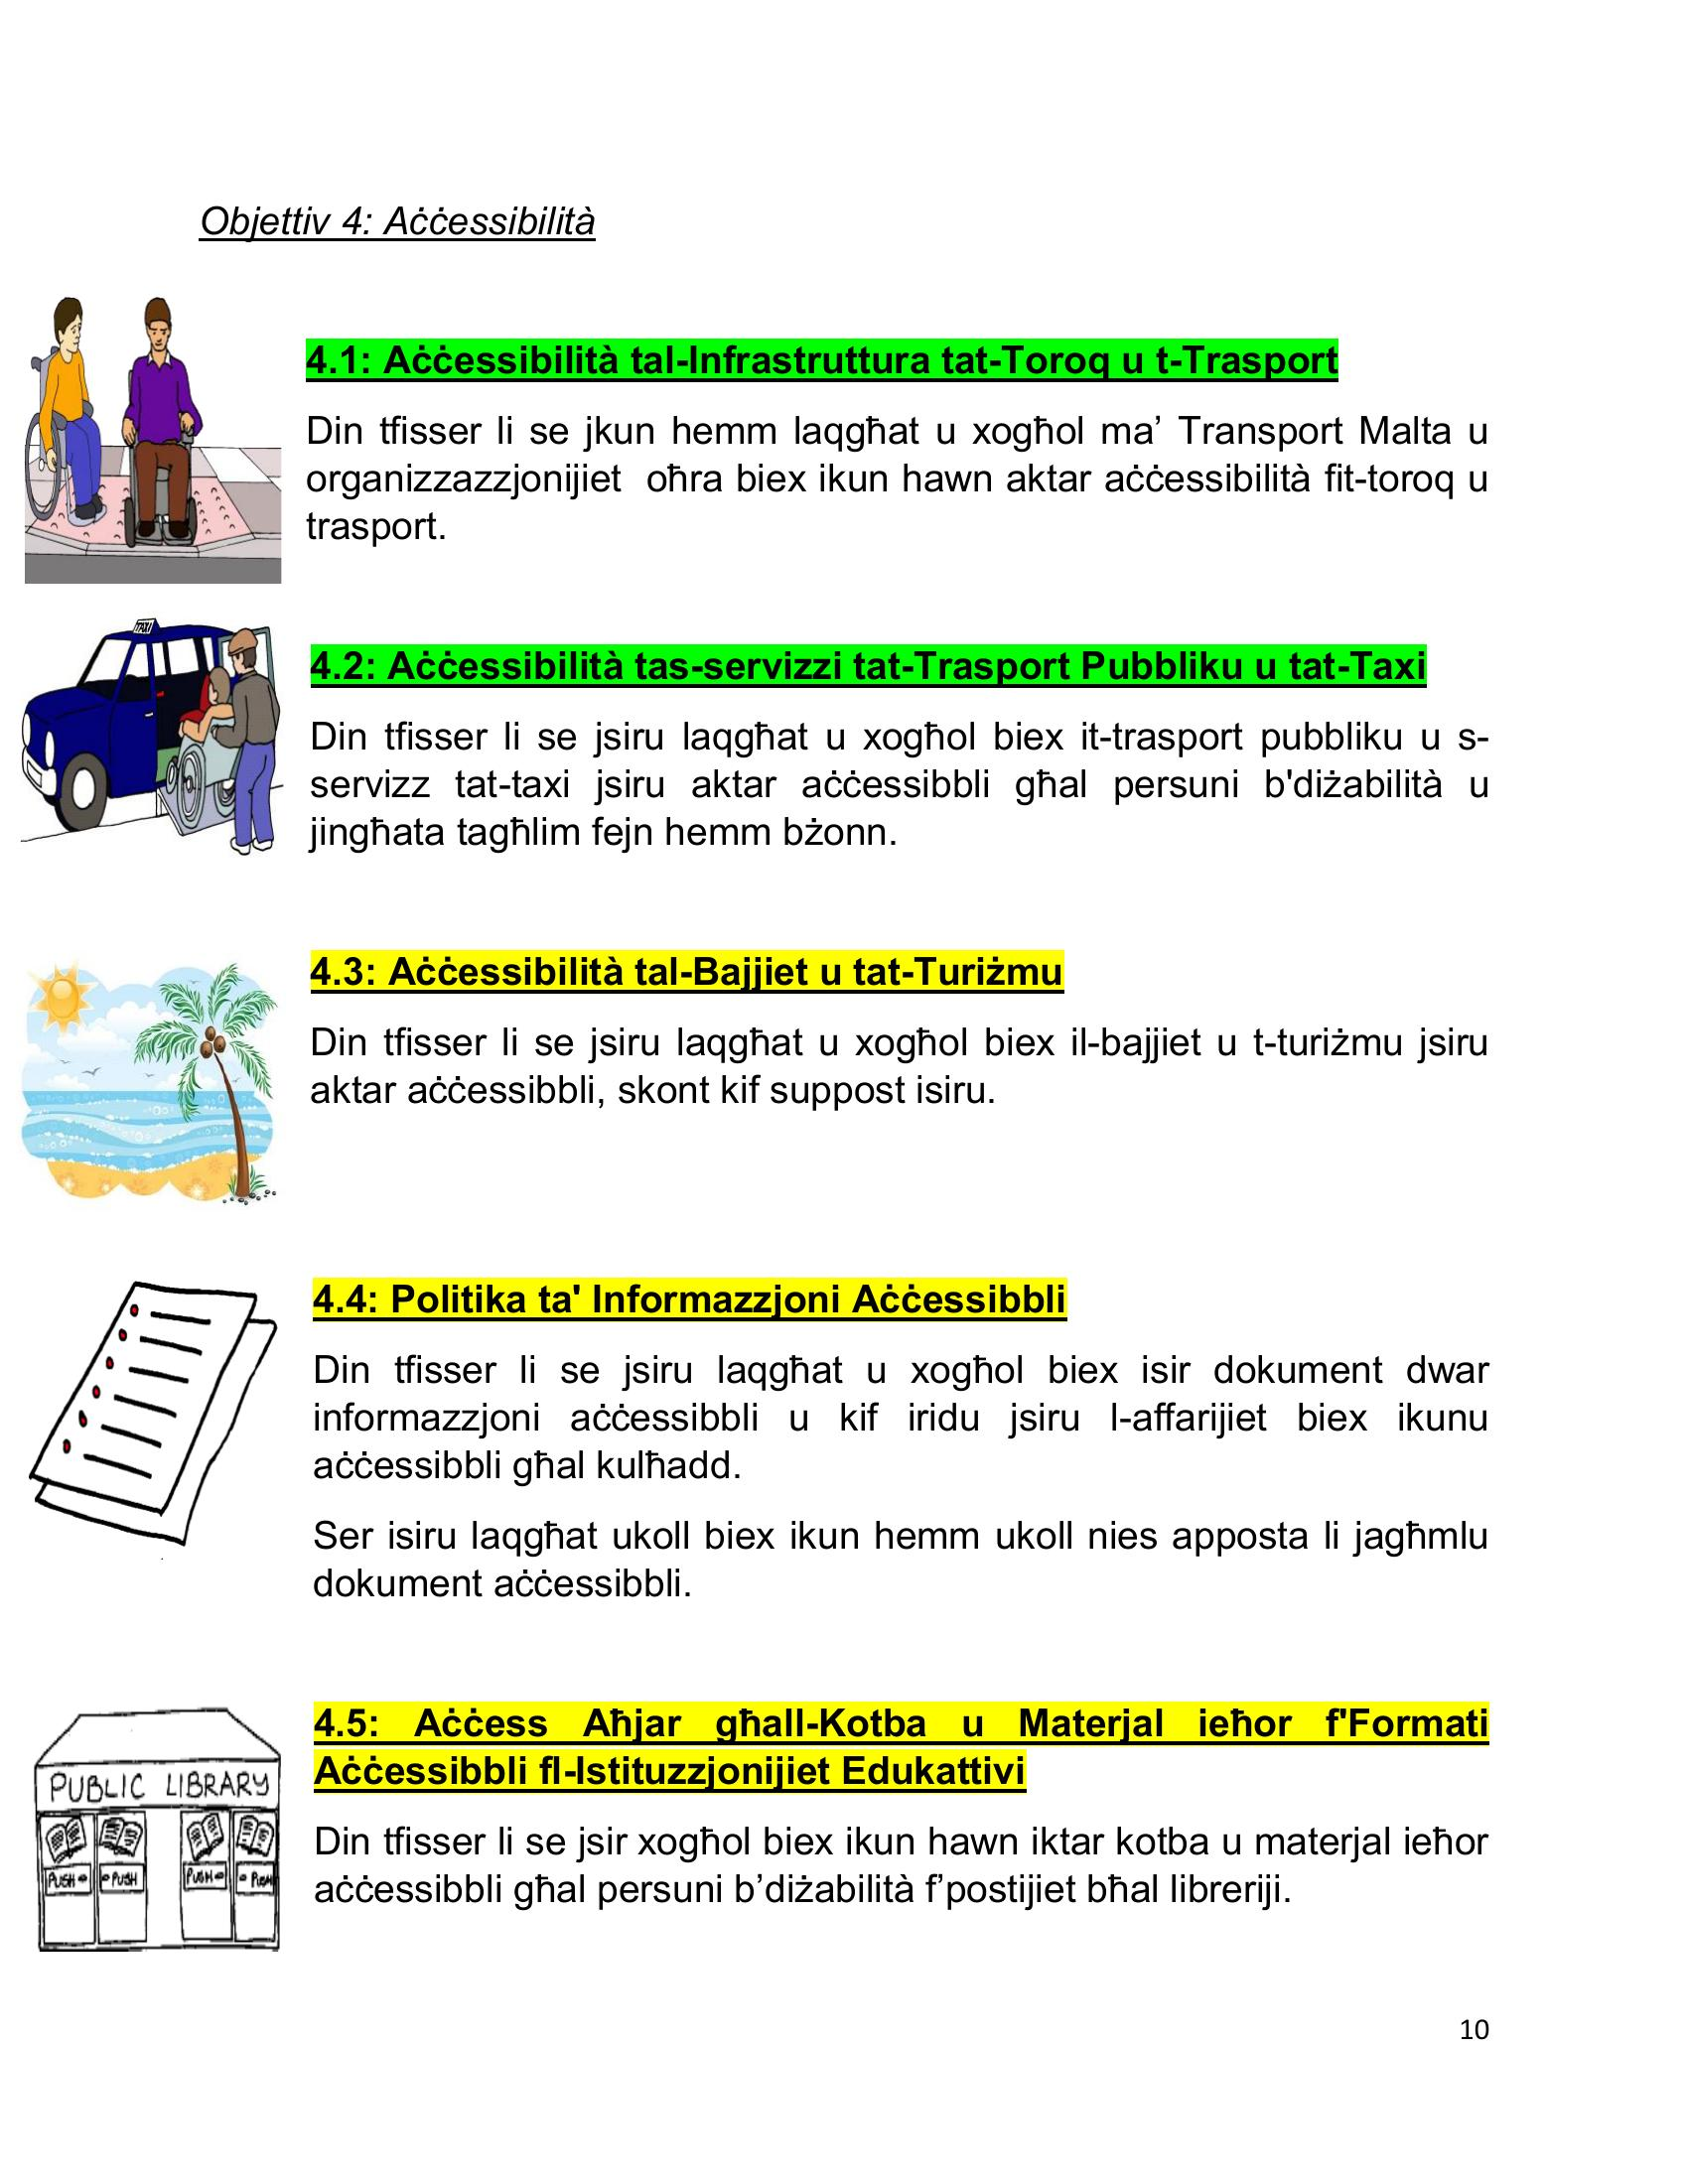text: (293, 314, 1573, 1957), (181, 175, 629, 278)
